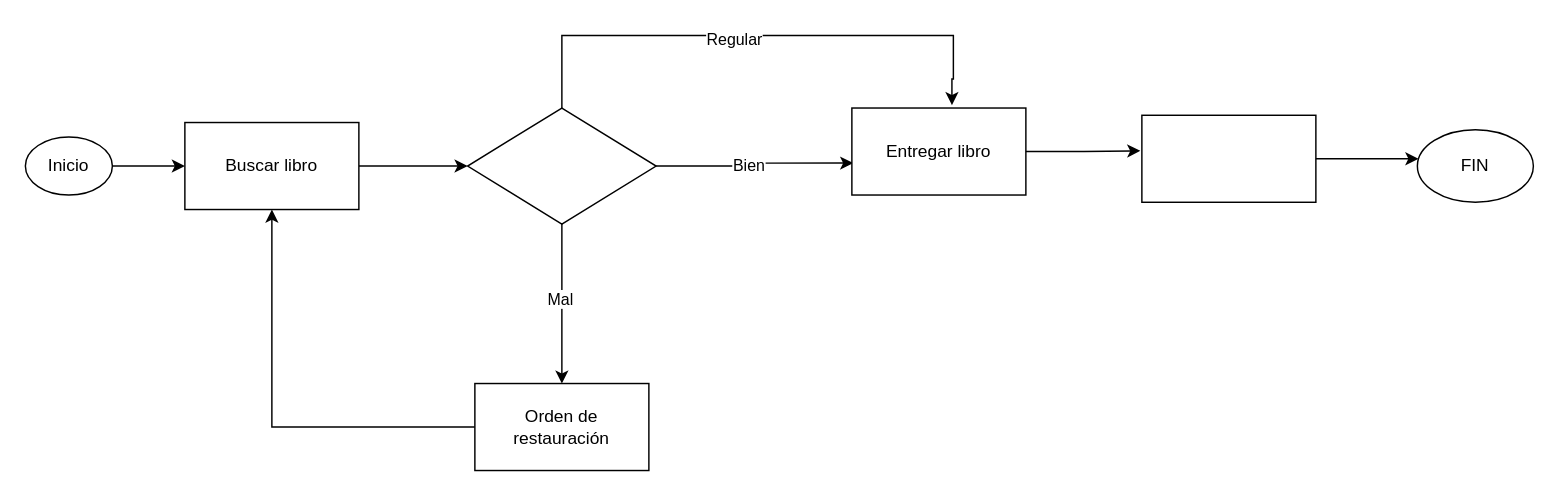
The diagram is 1559 pixels wide and 496 high, and some of its shapes have lost their labels. Each missing label, with the centre of its shape:
Devolución: the point at 1228,158
¿Cómo está el libro?: the point at 561,165
